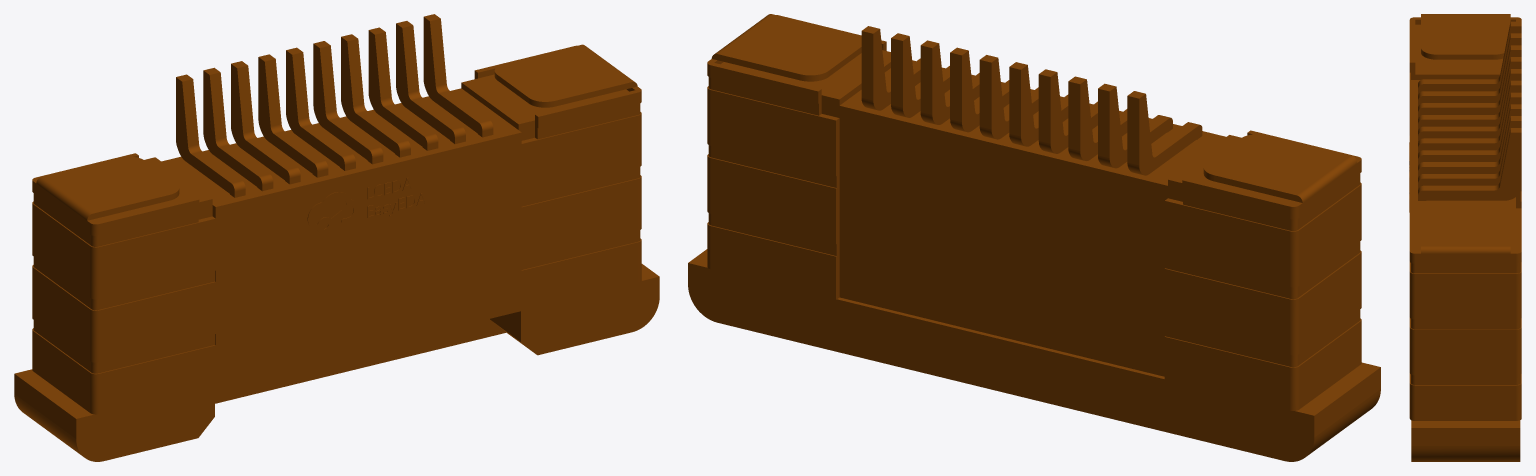
Rendered from fpc_fit_reference.glb.
3 renders of one model, left to right at view 1: azimuth 30°, elevation 25°; view 2: azimuth 150°, elevation 25°; view 3: azimuth 270°, elevation 25°, orthographic. The views are drawn at different scales.
Parts seen in each view (by area): view 1: o1.5, o1.1, o1.2, o1.4, o1.3; view 2: o1.5, o1.1, o1.4, o1.2, o1.3; view 3: o1.2, o1.5, o1.1, o1.4, o1.3.
Part boxes in pixels (left/top/right/bottom): o1.5: left=93, top=14, right=628, bottom=385; o1.1: left=32, top=153, right=215, bottom=414; o1.2: left=474, top=44, right=641, bottom=310; o1.4: left=14, top=264, right=659, bottom=461; o1.3: left=313, top=41, right=383, bottom=164; o1.5: left=721, top=26, right=1296, bottom=376; o1.1: left=1164, top=130, right=1361, bottom=410; o1.4: left=688, top=249, right=1380, bottom=461; o1.2: left=707, top=14, right=886, bottom=299; o1.3: left=979, top=55, right=1038, bottom=139; o1.2: left=1409, top=206, right=1521, bottom=420; o1.5: left=1409, top=21, right=1521, bottom=251; o1.1: left=1409, top=14, right=1521, bottom=208; o1.4: left=1411, top=420, right=1520, bottom=461; o1.3: left=1418, top=80, right=1521, bottom=153.
Size of the model in its own units: 0.0106 by 0.0053 by 0.00201.
